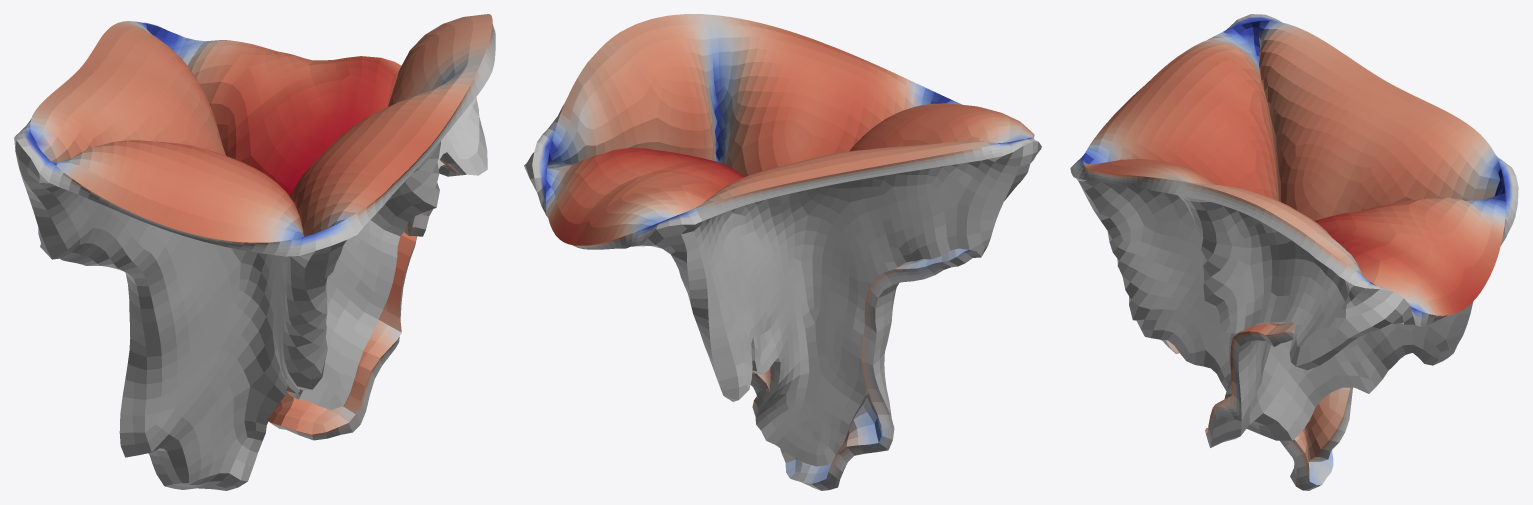
File: Valve_Static.glb
The picture shows the model from 3 angles, left to right: view 1: azimuth 30°, elevation 25°; view 2: azimuth 150°, elevation 25°; view 3: azimuth 270°, elevation 25°; orthographic projection. The views are drawn at different scales.
Visible parts, largest first — view 1: newvalve_15; view 2: newvalve_15; view 3: newvalve_15.
Boxes of the visible parts, <box> form: newvalve_15: <box>14,14,495,490</box>; newvalve_15: <box>524,14,1041,490</box>; newvalve_15: <box>1070,14,1518,490</box>.
Bounding box in the file's own units: 2.77 × 2.28 × 2.36.
